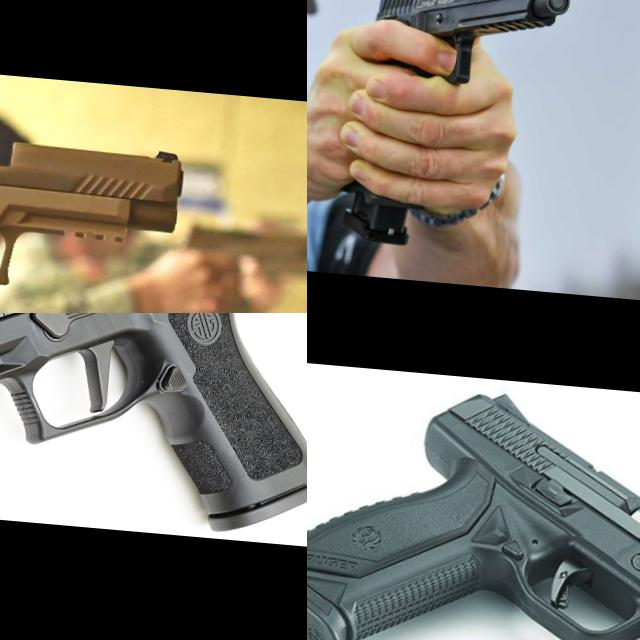handgun: (307, 371, 640, 640), (0, 313, 307, 543), (0, 100, 216, 304), (363, 0, 584, 97)
